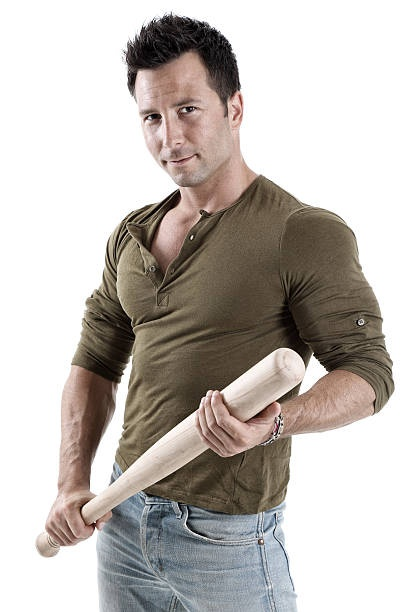bita: (26, 353, 300, 553)
